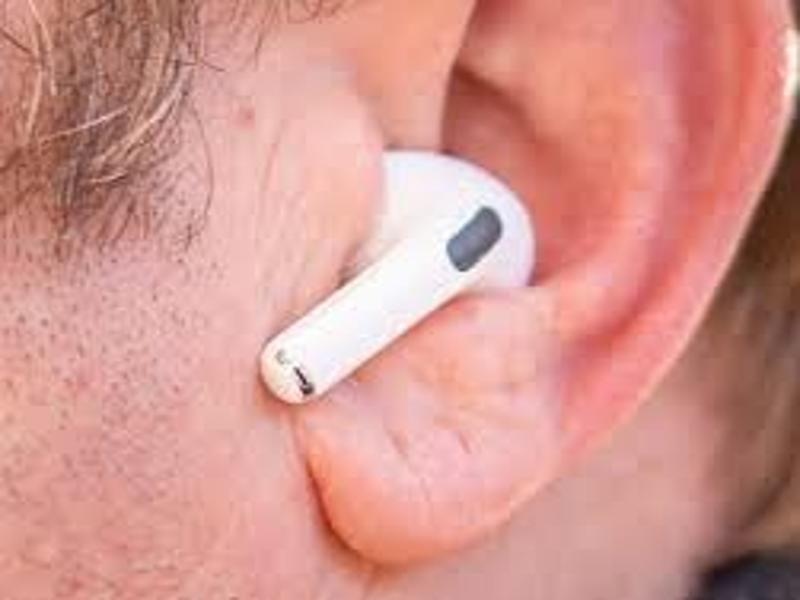headphone: (248, 142, 541, 409)
